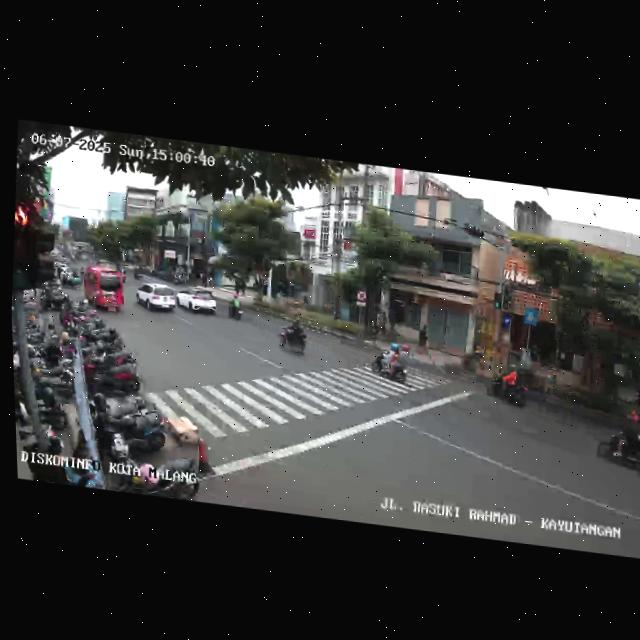car: (80, 263, 127, 316), (135, 281, 178, 316), (174, 285, 218, 318)
motorcycle: (591, 410, 640, 478), (483, 359, 533, 412), (372, 340, 414, 388), (275, 314, 311, 357), (227, 293, 245, 323)
